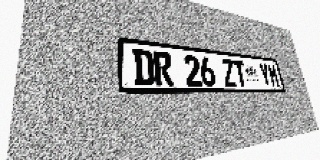2: (183, 54, 202, 86)
6: (199, 56, 217, 86)
D: (133, 49, 155, 86)
M: (267, 64, 280, 87)
R: (153, 51, 174, 86)
T: (232, 60, 248, 87)
Y: (258, 63, 272, 87)
Z: (221, 59, 237, 87)
